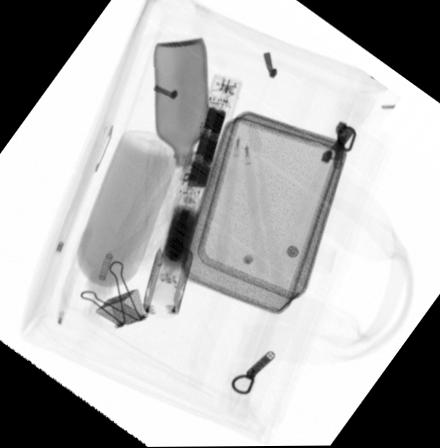Baton: (139, 72, 242, 318)
